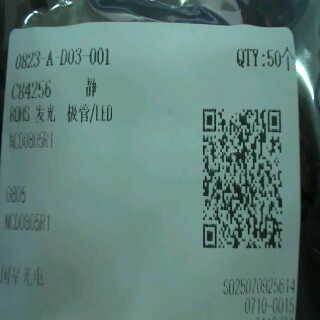LED: (34, 97, 114, 127)
